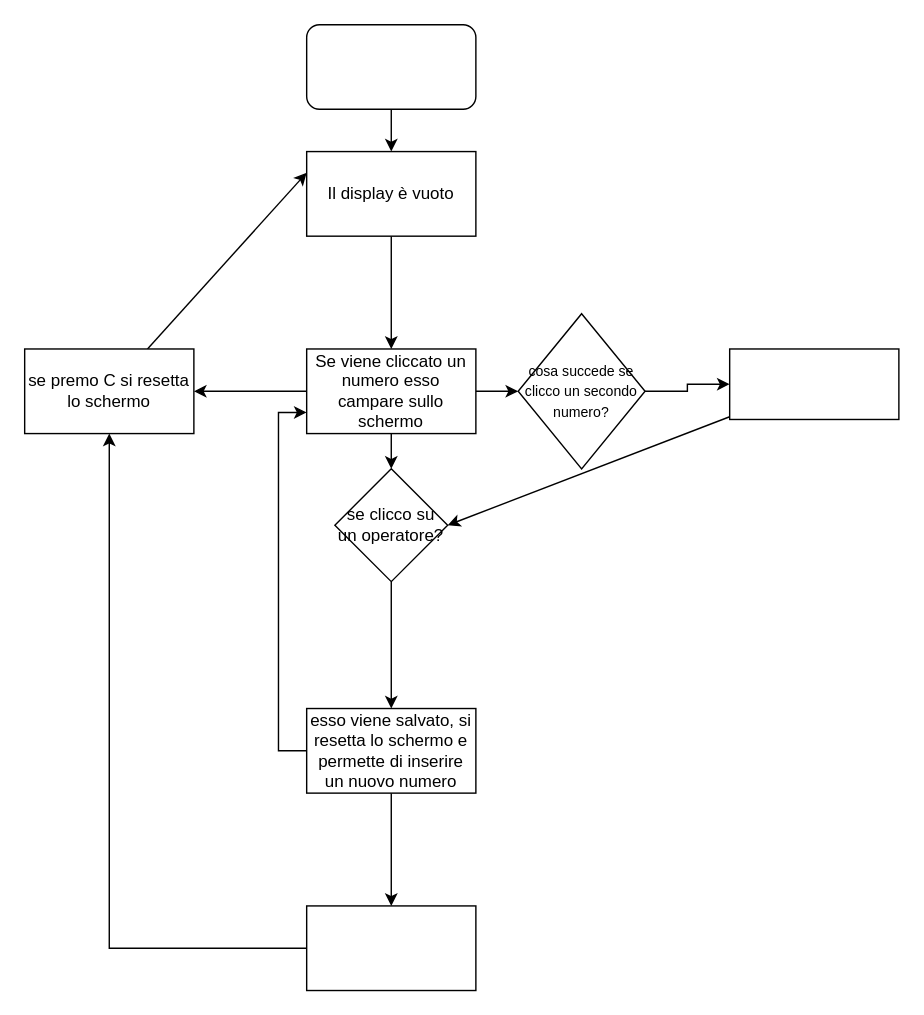
Some shapes in this 924 by 1015 pixel diagram are drawn without their labels. Each missing label, with the centre of its shape:
"esso viene aggiunto al fianco del primo" goes at point (813, 383).
"Inizio" goes at point (390, 66).
"se premo sul pulsante = compare il risultato della operazione" goes at point (390, 948).
